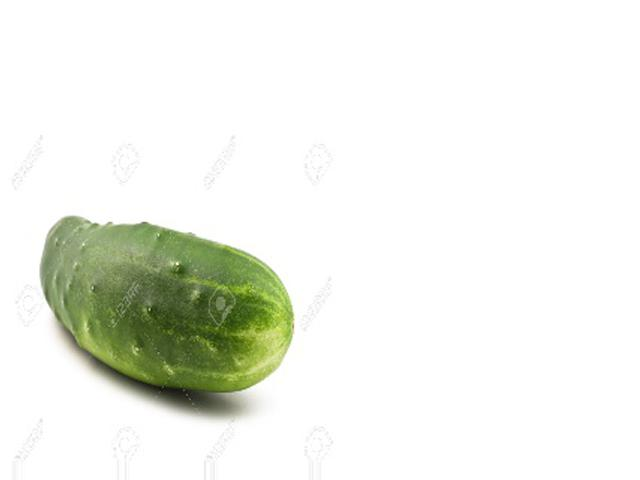cucumber: (39, 216, 294, 394)
